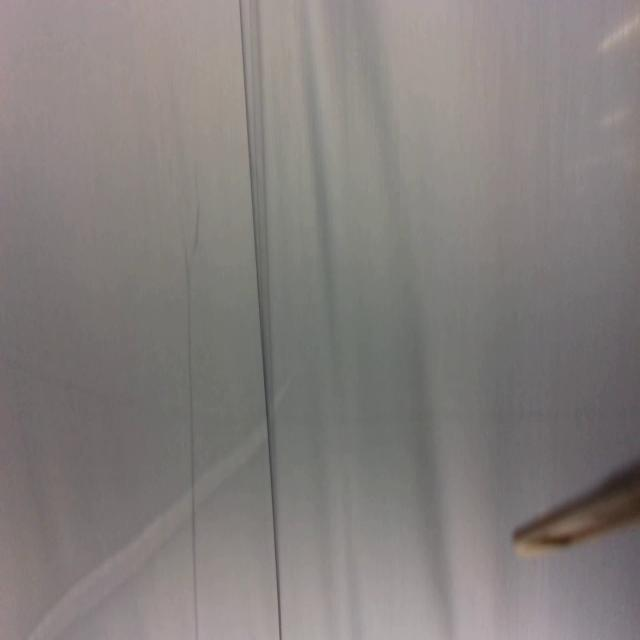crease: (29, 418, 268, 640), (238, 0, 284, 639), (183, 159, 200, 640)
